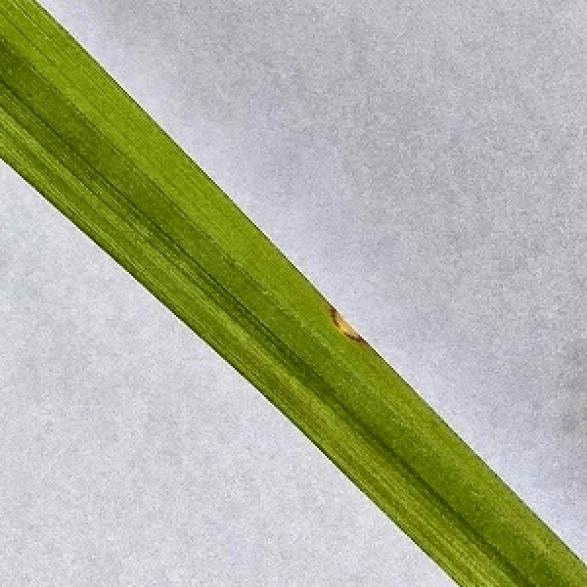Leaf_smut: (291, 298, 364, 344)
